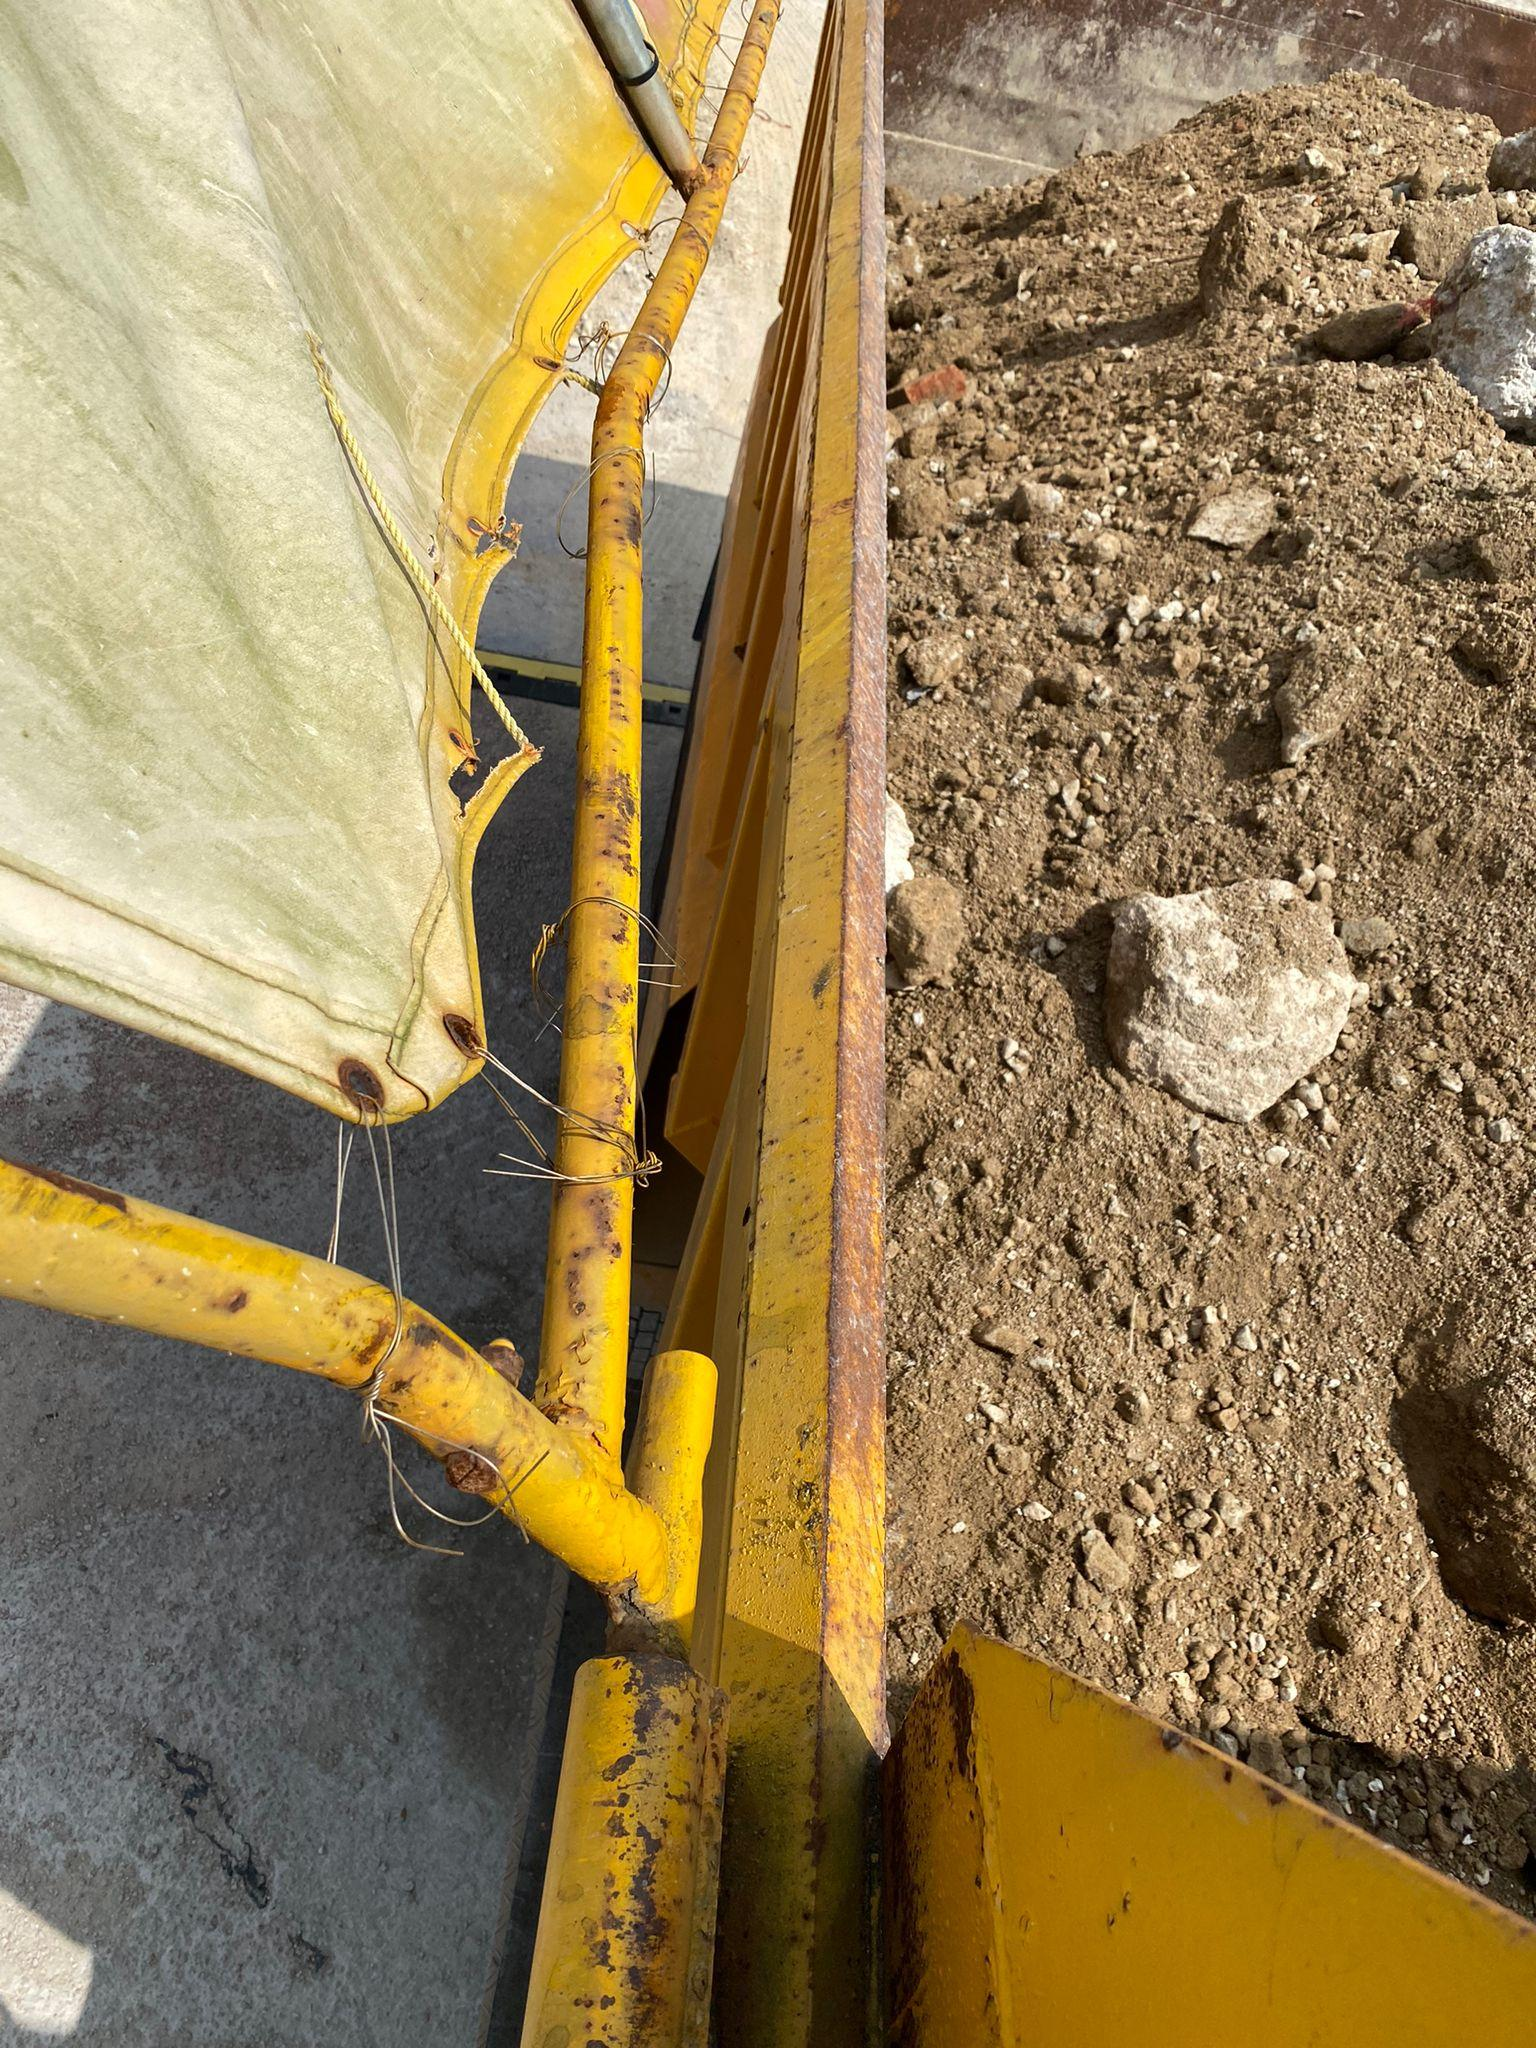dry: (867, 80, 1536, 1913)
